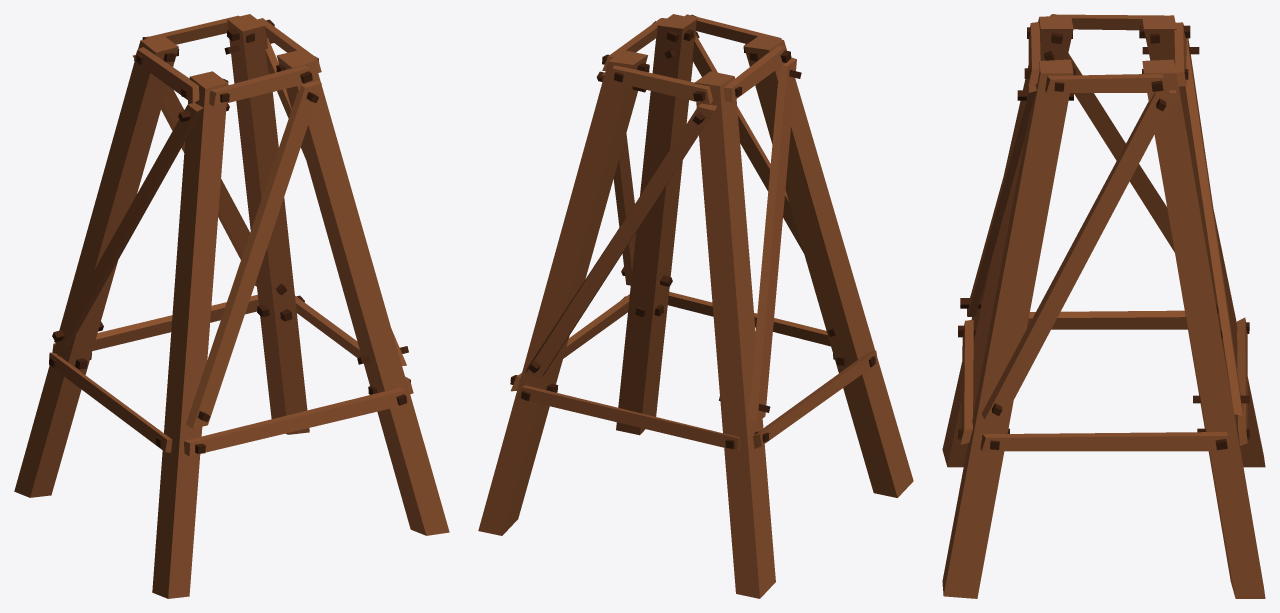
Rendered from windmill_base.glb.
3 renders of one model, left to right at view 1: azimuth 30°, elevation 25°; view 2: azimuth 150°, elevation 25°; view 3: azimuth 270°, elevation 25°, orthographic. The views are drawn at different scales.
Parts seen in each view (by area): view 1: windmill_base; view 2: windmill_base; view 3: windmill_base.
Part boxes in pixels (<box>): windmill_base: <box>14,14,449,598</box>; windmill_base: <box>478,14,913,598</box>; windmill_base: <box>942,14,1265,598</box>.
Bounding box in the file's own units: 1.92 × 3 × 1.82.
